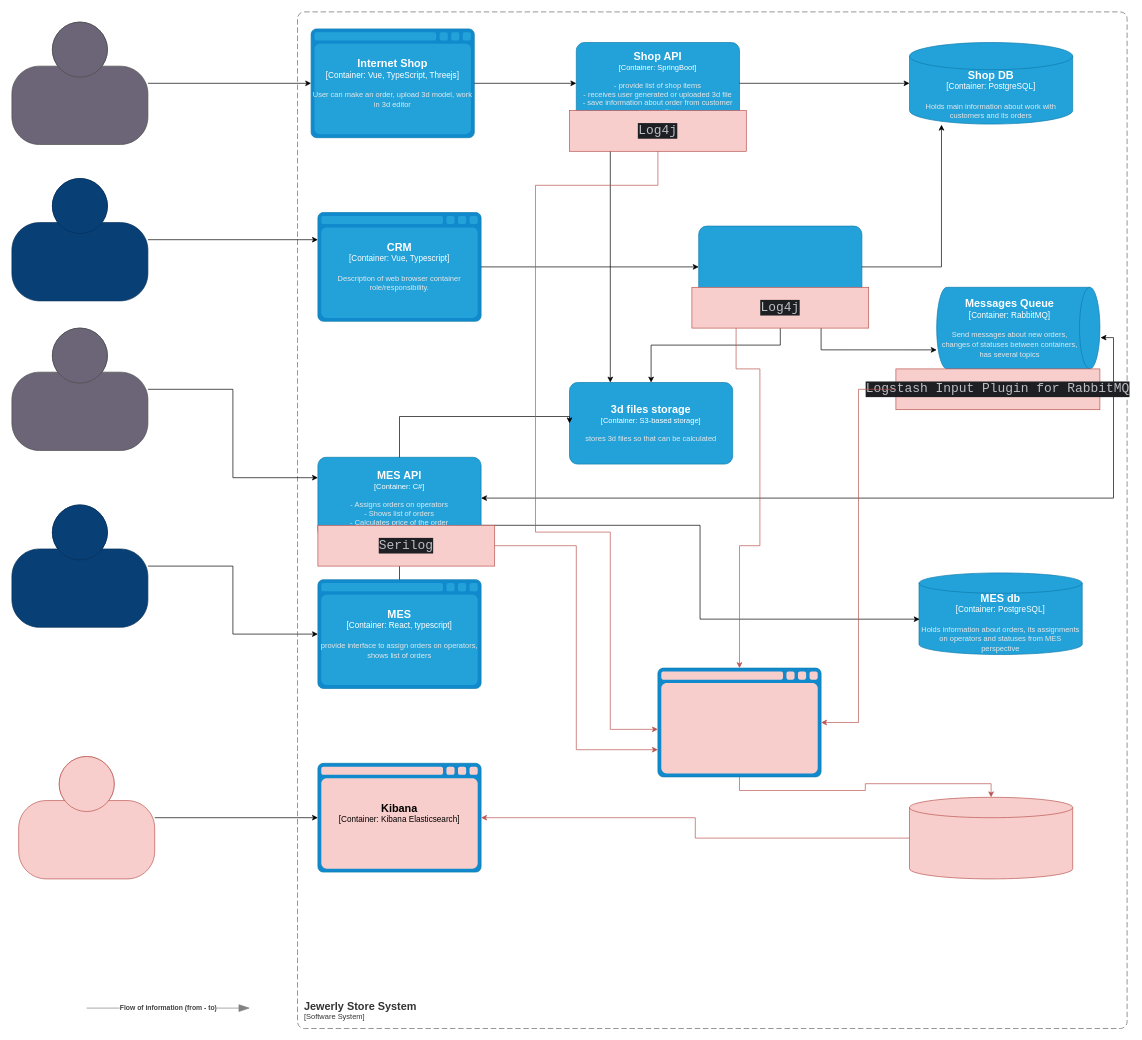
Some shapes in this 1142 by 1040 pixel diagram are drawn without their labels. The box of each missing label's shape, as (x1, y1, x2, y2) in pixels:
API user [Person] Description of external person.: (11, 327, 148, 451)
CRM API [Container: SpringBoot] Description of container role/responsibility.: (698, 225, 862, 308)
Customer [Person] Description of external person.: (11, 21, 148, 144)
Dev [Person]: (18, 756, 155, 879)
ELK db [Container: Elasticsearch]: (909, 797, 1073, 879)
Logstash [Container: Logstash]: (657, 667, 821, 777)
Operator [Person] Takes order in work, manufactures jewerly: (11, 504, 148, 627)
Seller [Person] Operates with order, confirms manufacturing for the user: (11, 178, 148, 301)
